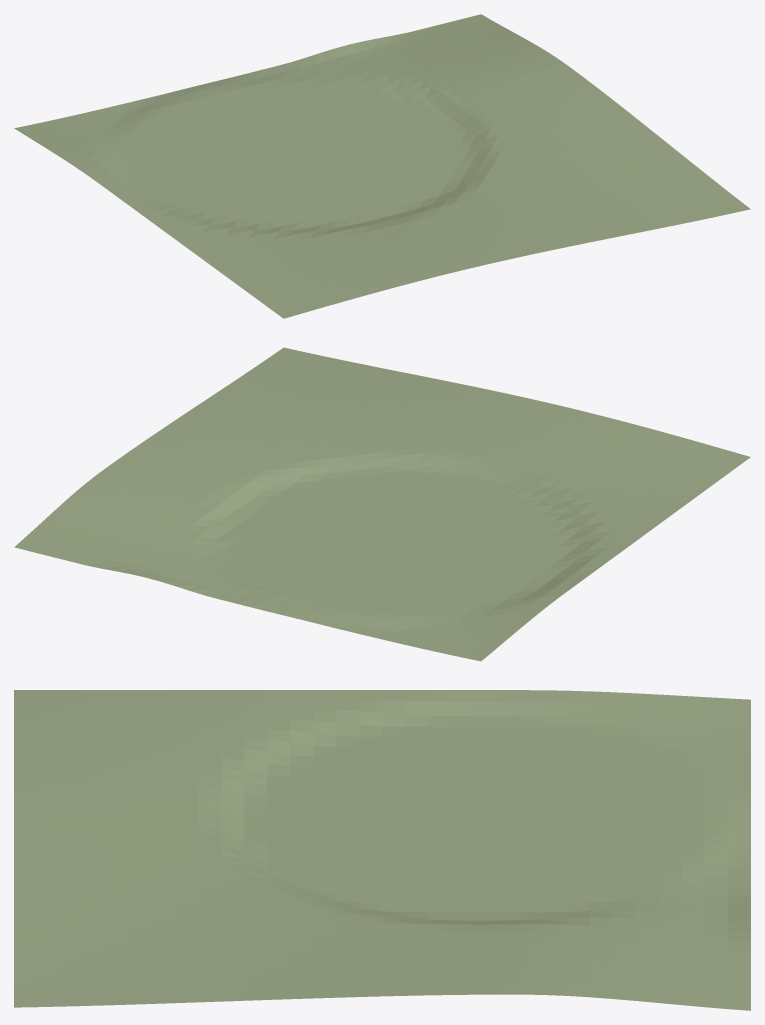
Rendered from coast-0-1.glb.
3 renders of one model, top to bottom at view 1: azimuth 30°, elevation 25°; view 2: azimuth 150°, elevation 25°; view 3: azimuth 270°, elevation 25°, orthographic. The views are drawn at different scales.
Visible parts, largest first — view 1: coast-0-1; view 2: coast-0-1; view 3: coast-0-1.
Part boxes in pixels (bbox=[...]): coast-0-1: bbox=[14, 14, 750, 318]; coast-0-1: bbox=[14, 347, 750, 661]; coast-0-1: bbox=[14, 690, 750, 1010].
Size of the model in its own units: 256 by 7.57 by 256.
